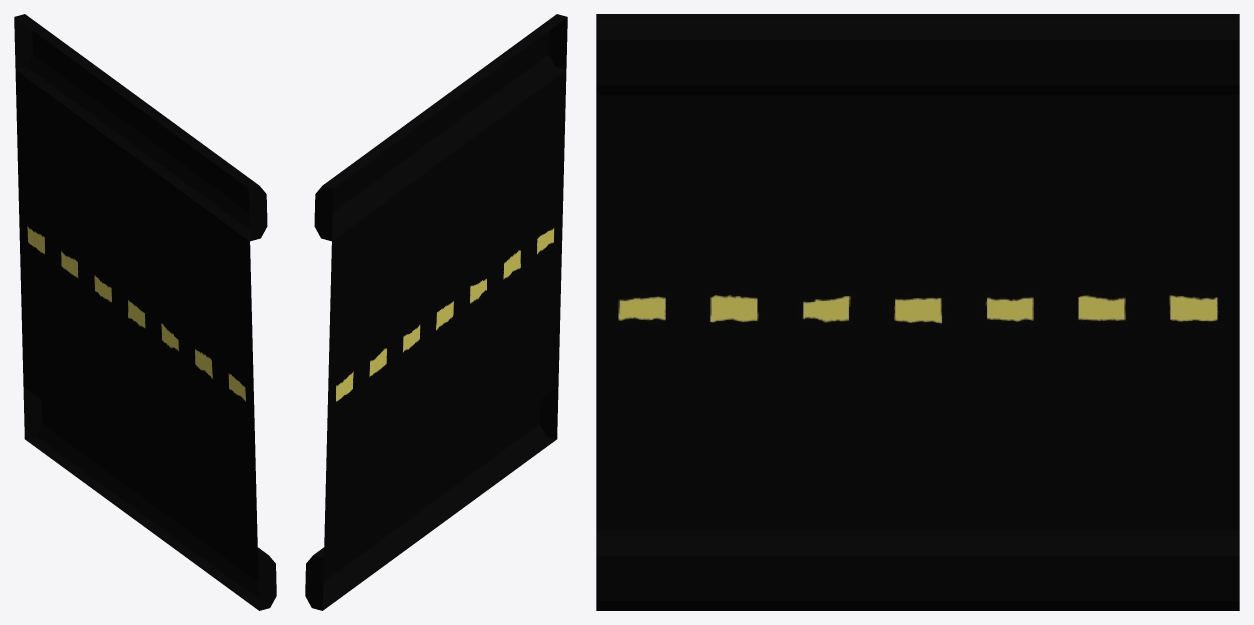
3 views of the same model, side by side, from view 1: azimuth 30°, elevation 25°; view 2: azimuth 150°, elevation 25°; view 3: azimuth 270°, elevation 25° (orthographic). The views are drawn at different scales.
Visible parts, largest first — view 1: Plane; view 2: Plane; view 3: Plane.
Part boxes in pixels (x1=…): Plane: x1=14, y1=14, x2=276, y2=610; Plane: x1=305, y1=14, x2=567, y2=610; Plane: x1=596, y1=14, x2=1239, y2=610.
Size of what is drawn, in the model's own units: 0.0229 by 0.3323 by 0.3322.
Materials: 1 (1 with a texture image).
